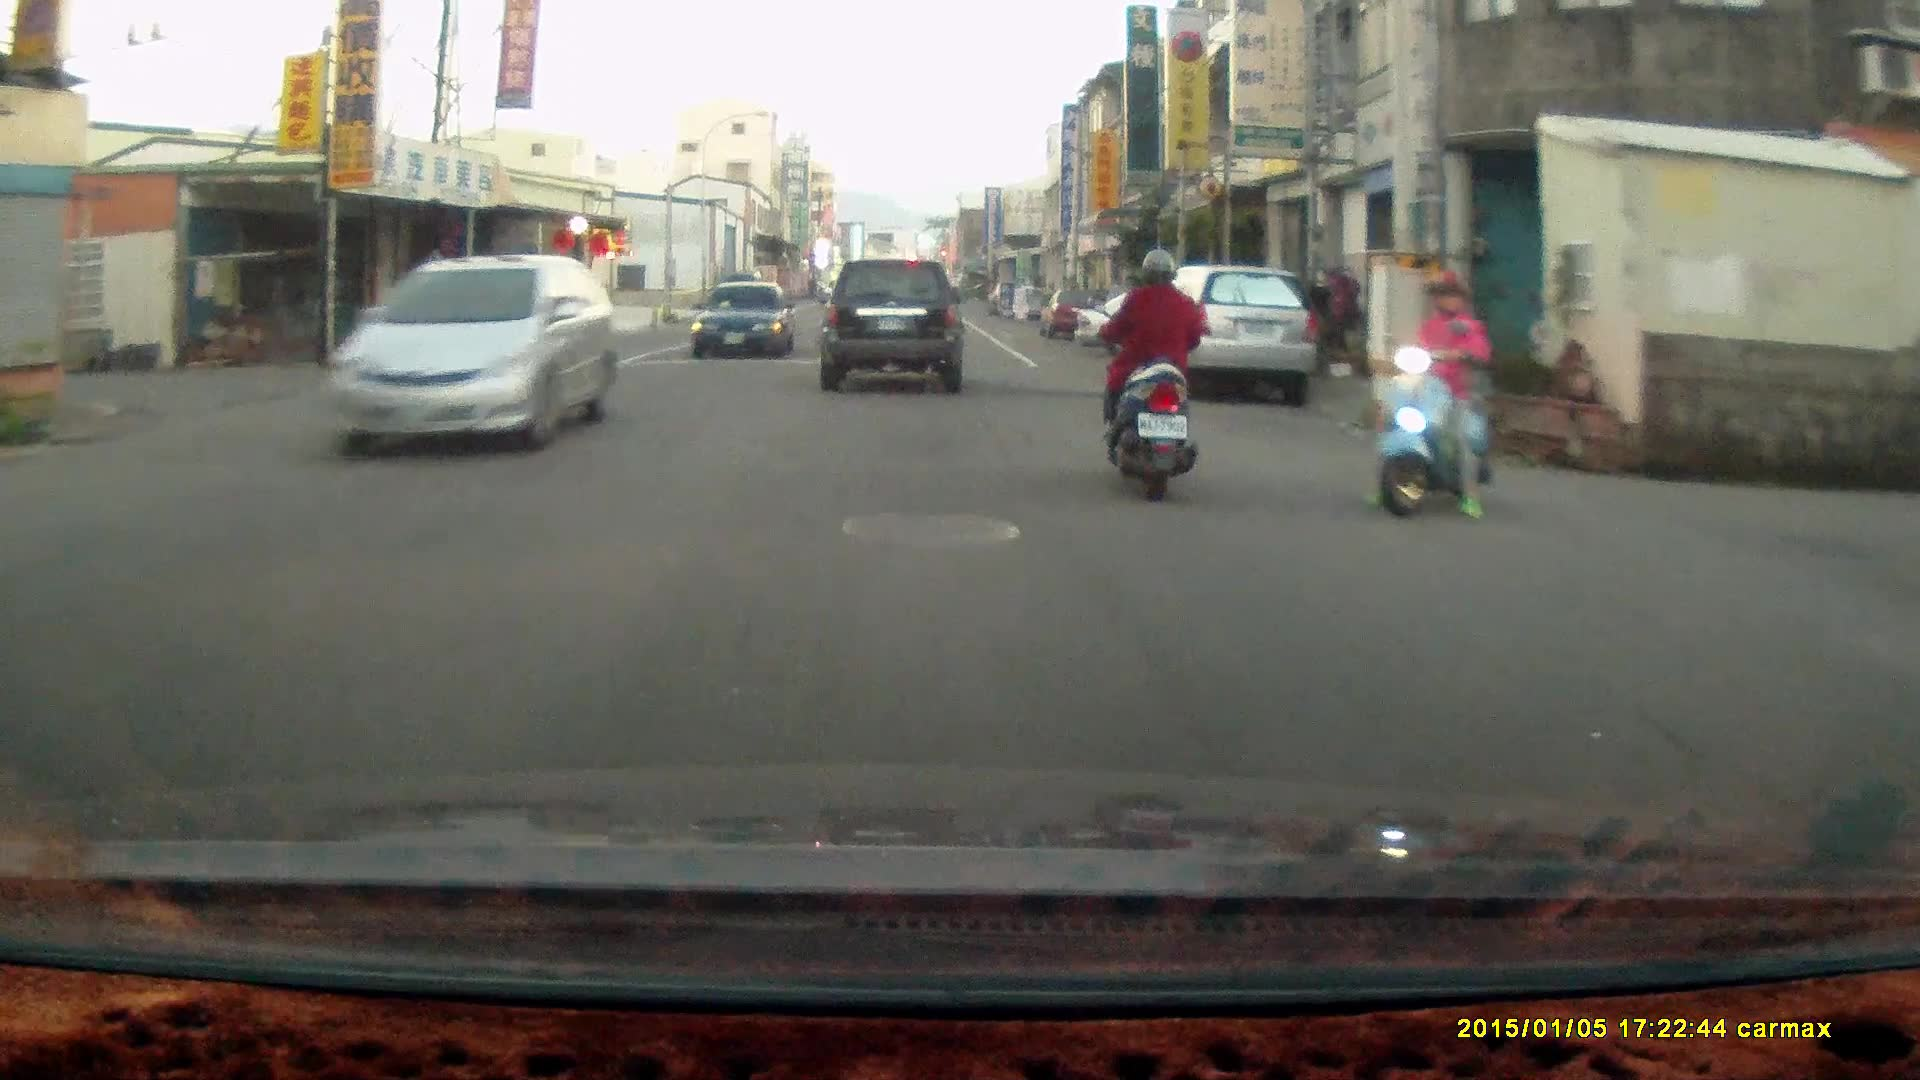rider: (1356, 268, 1491, 515), (1099, 243, 1198, 504)
vehicle: (325, 249, 622, 456), (1135, 263, 1319, 402), (819, 257, 966, 398), (1076, 283, 1256, 357), (697, 281, 798, 362)
